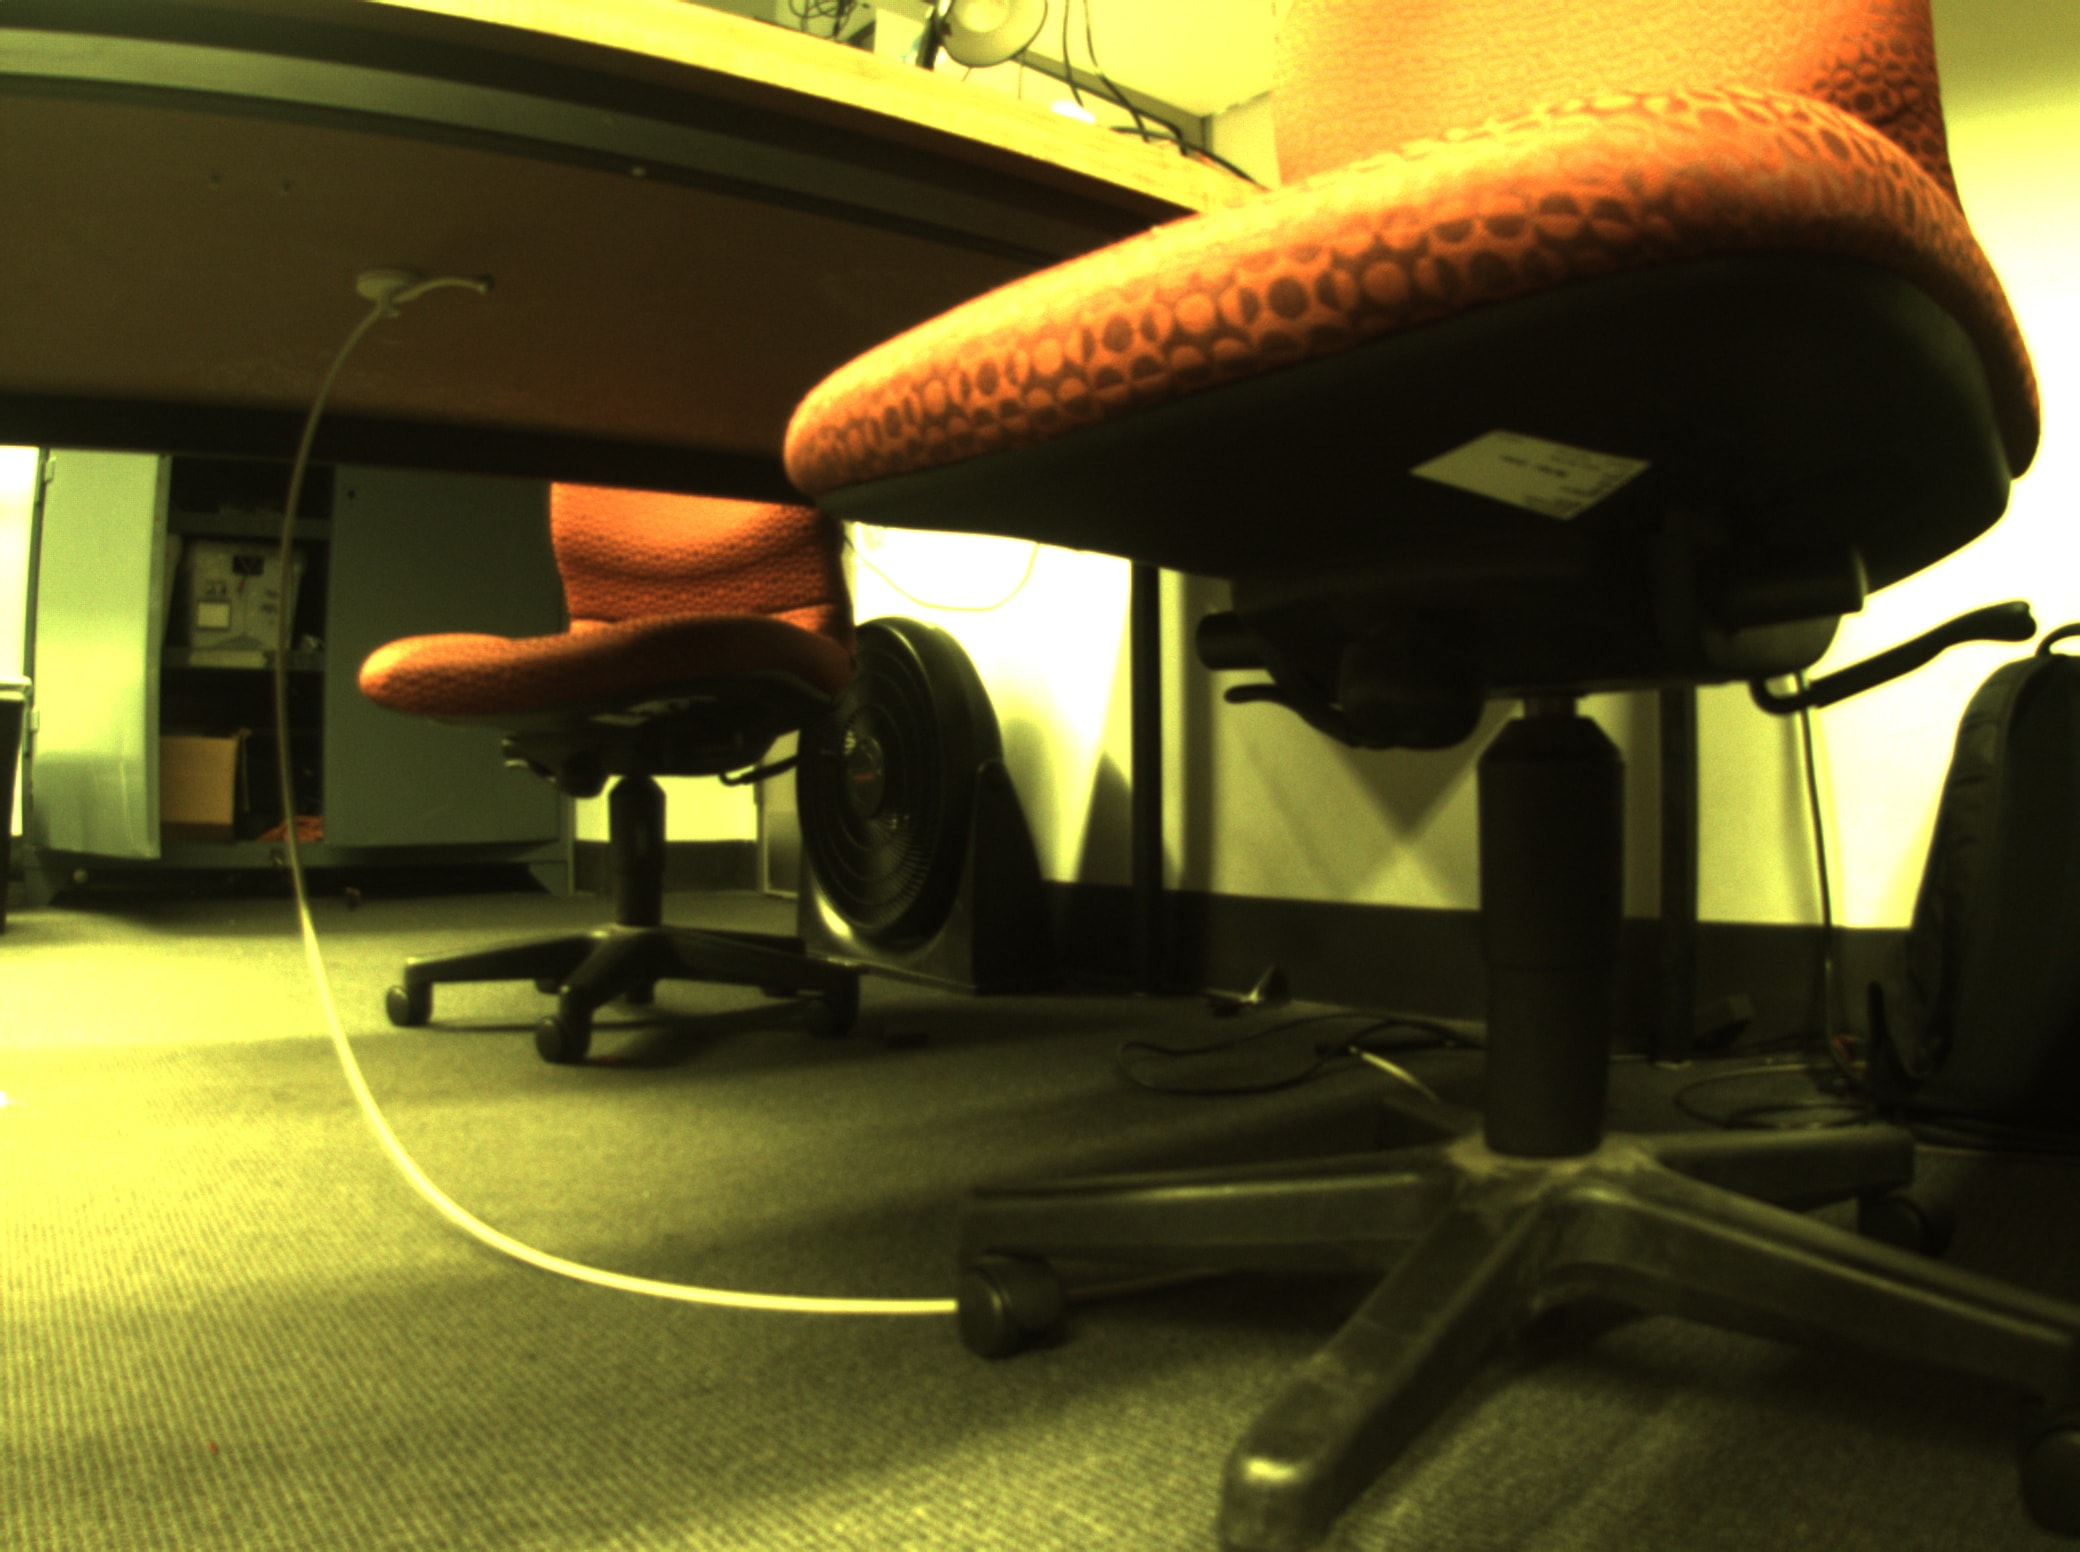chair: (760, 16, 2073, 1524), (341, 435, 901, 1097)
